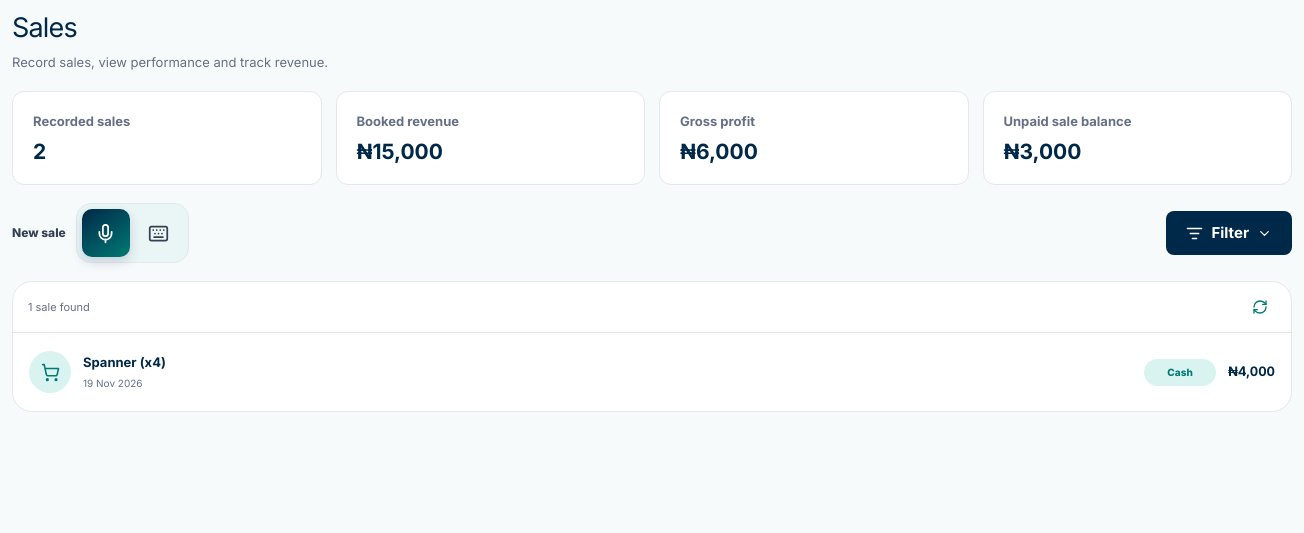
Scenario: sends supported receipt, payment, sale-status and date filters
Later steps or results of the test are not shown.
Click the button "Filter". click: (1229, 233)
box: [1166, 211, 1292, 255]
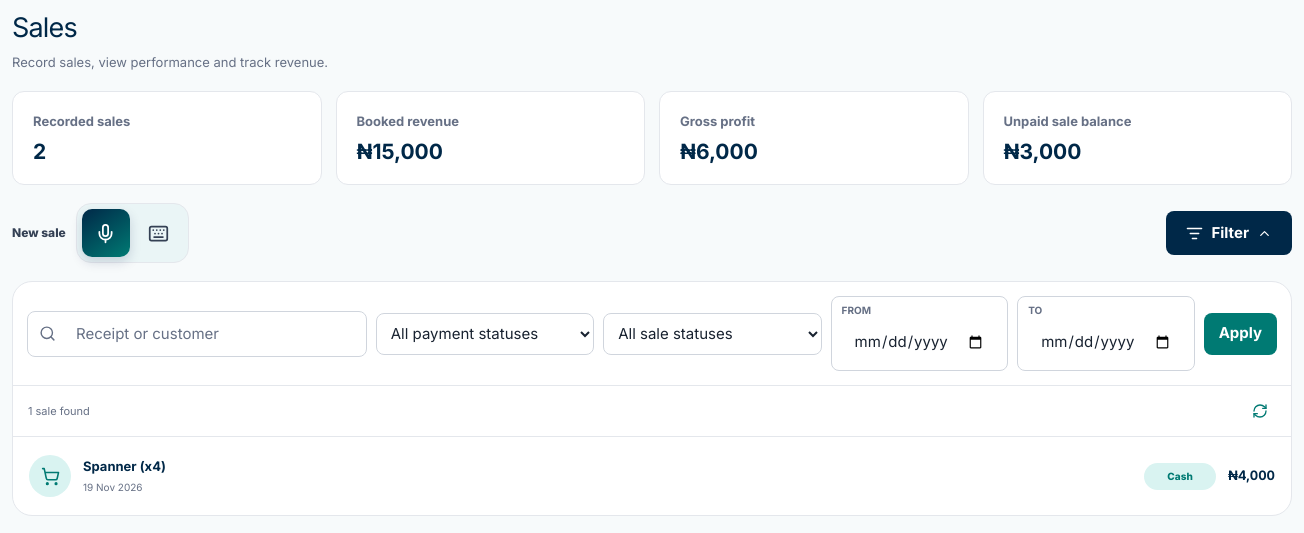
expect the button "Filter" is expanded: met, box [1166, 211, 1292, 255]
